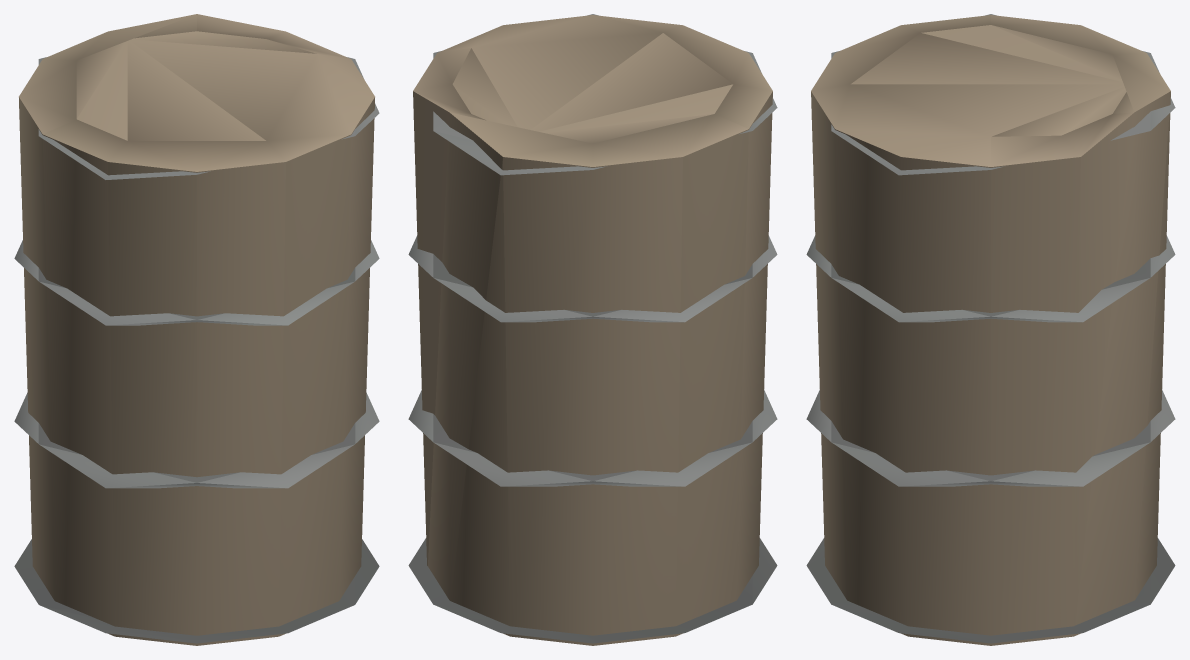
The model's file is barrel.lod1.glb.
3 views of the same model, side by side, from view 1: azimuth 30°, elevation 25°; view 2: azimuth 150°, elevation 25°; view 3: azimuth 270°, elevation 25° (orthographic).
Size of the model in its own units: 0.738 by 1.1 by 0.738.
